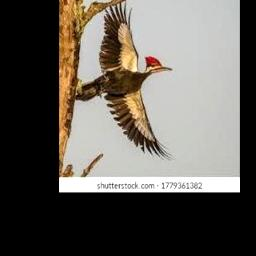Woodpecker: (73, 0, 175, 163)
